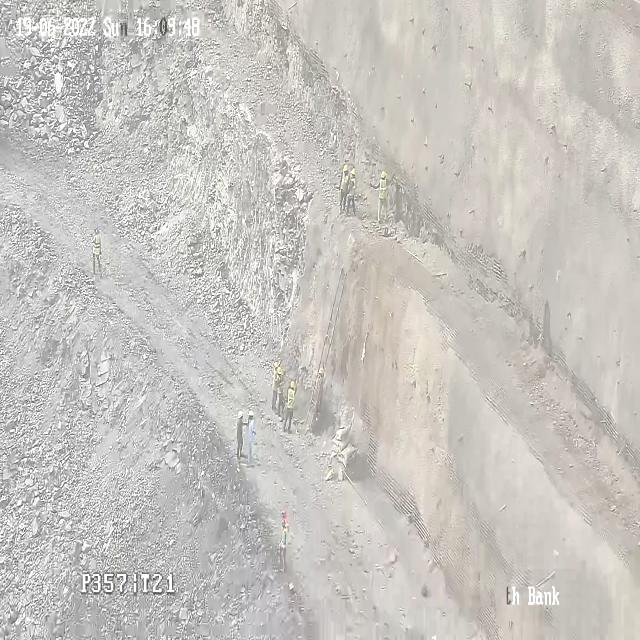Boots: (270, 405, 276, 412), (287, 428, 292, 434), (91, 268, 95, 275), (240, 454, 246, 458), (277, 557, 281, 563), (342, 208, 346, 214), (280, 568, 284, 573), (277, 548, 280, 554), (237, 456, 241, 460), (345, 212, 349, 216), (99, 274, 102, 279), (278, 413, 281, 418), (283, 428, 286, 432), (339, 208, 341, 214), (247, 462, 252, 464), (352, 210, 355, 213)
Helmet: (238, 409, 244, 418), (290, 380, 295, 388), (381, 170, 386, 178), (352, 167, 357, 175), (248, 409, 253, 416), (277, 367, 282, 374), (343, 164, 347, 172), (274, 362, 278, 367)
Mask: (93, 236, 102, 255), (379, 180, 387, 200), (349, 177, 356, 198), (277, 374, 284, 394), (341, 172, 348, 192), (288, 388, 294, 410), (282, 530, 288, 548), (273, 370, 277, 391)
